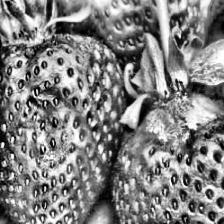Gray Mold: (5, 85, 94, 181), (127, 90, 224, 166)
